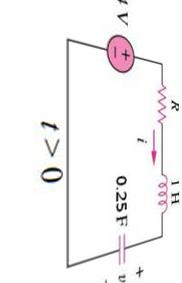resistor: (154, 75, 167, 129)
